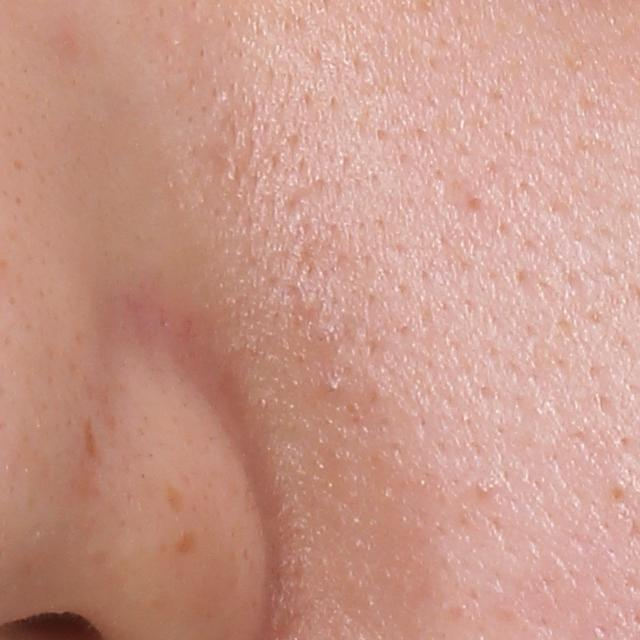melasma: (81, 412, 111, 469), (162, 478, 187, 517), (172, 526, 199, 555)
